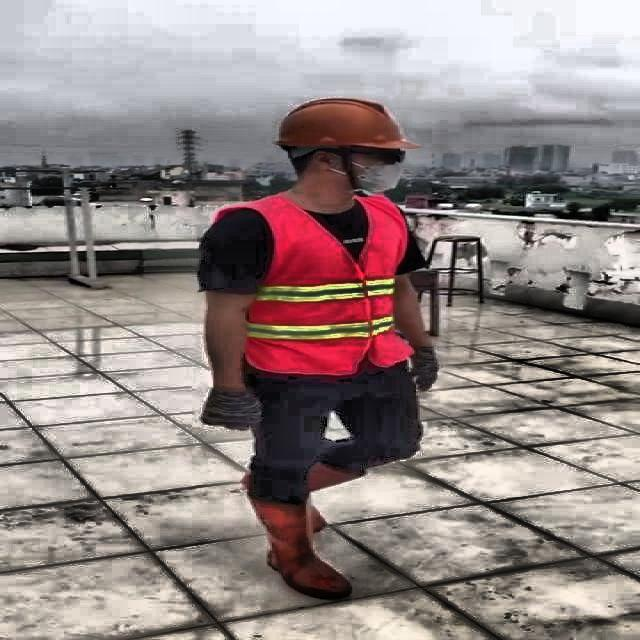safety_helmet: (266, 92, 420, 158)
safety_jacket: (245, 192, 412, 374)
